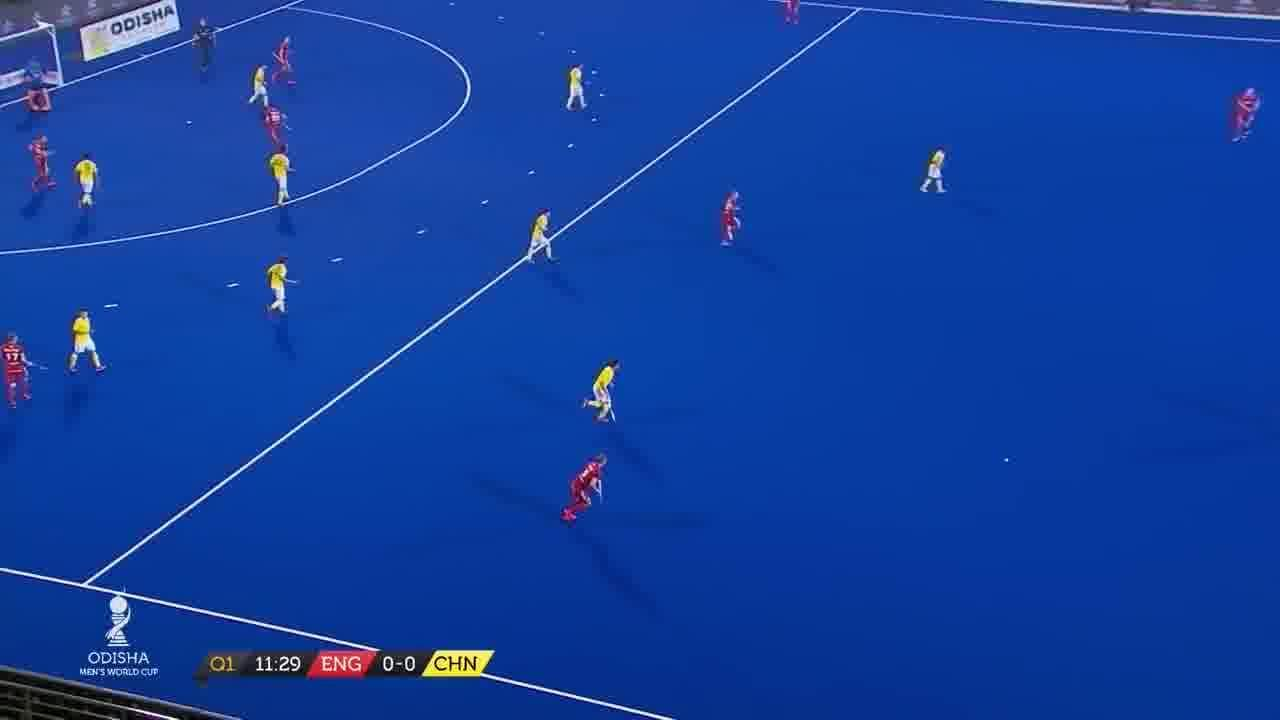ball: (994, 448, 1019, 478)
